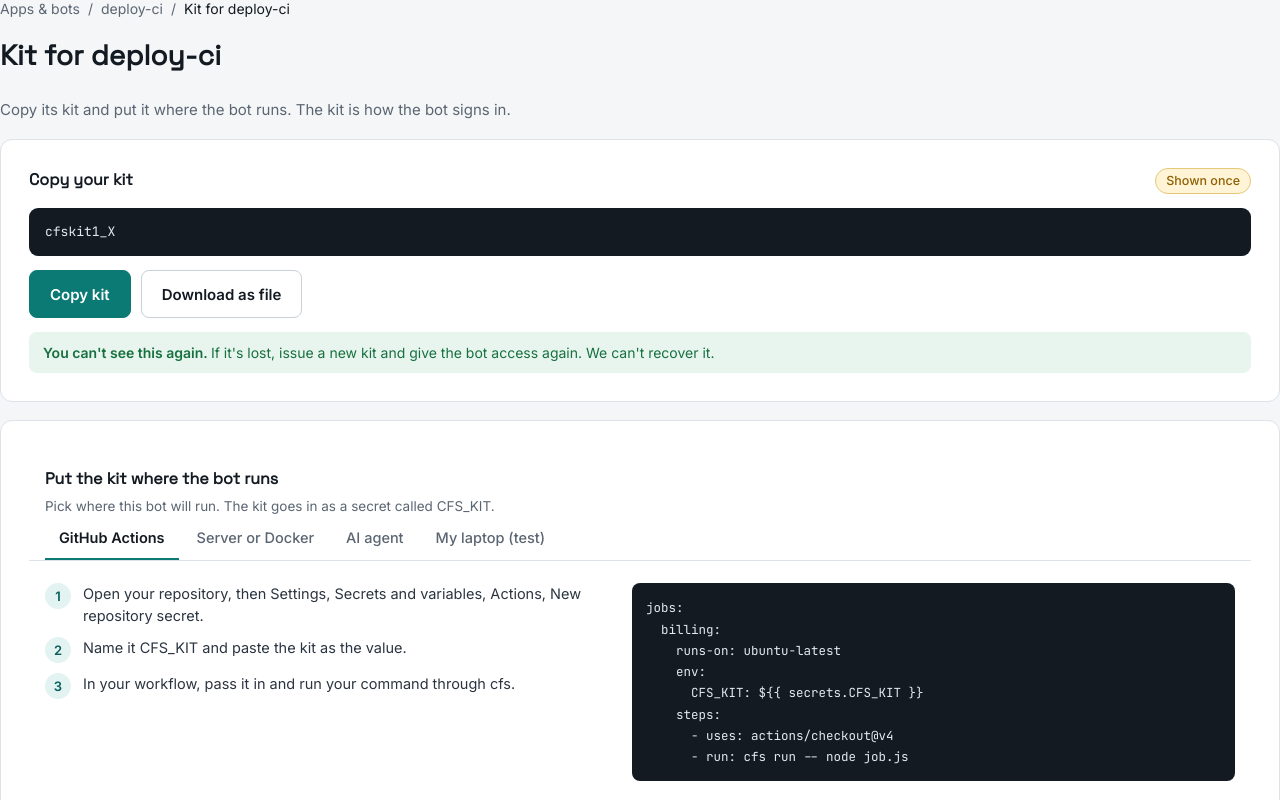
Test case: Apps and bots › switches the destination tab and shows that tab's steps
The image size is (1280, 800).
Click the tab "AI agent": (375, 538) [332, 516, 418, 560]
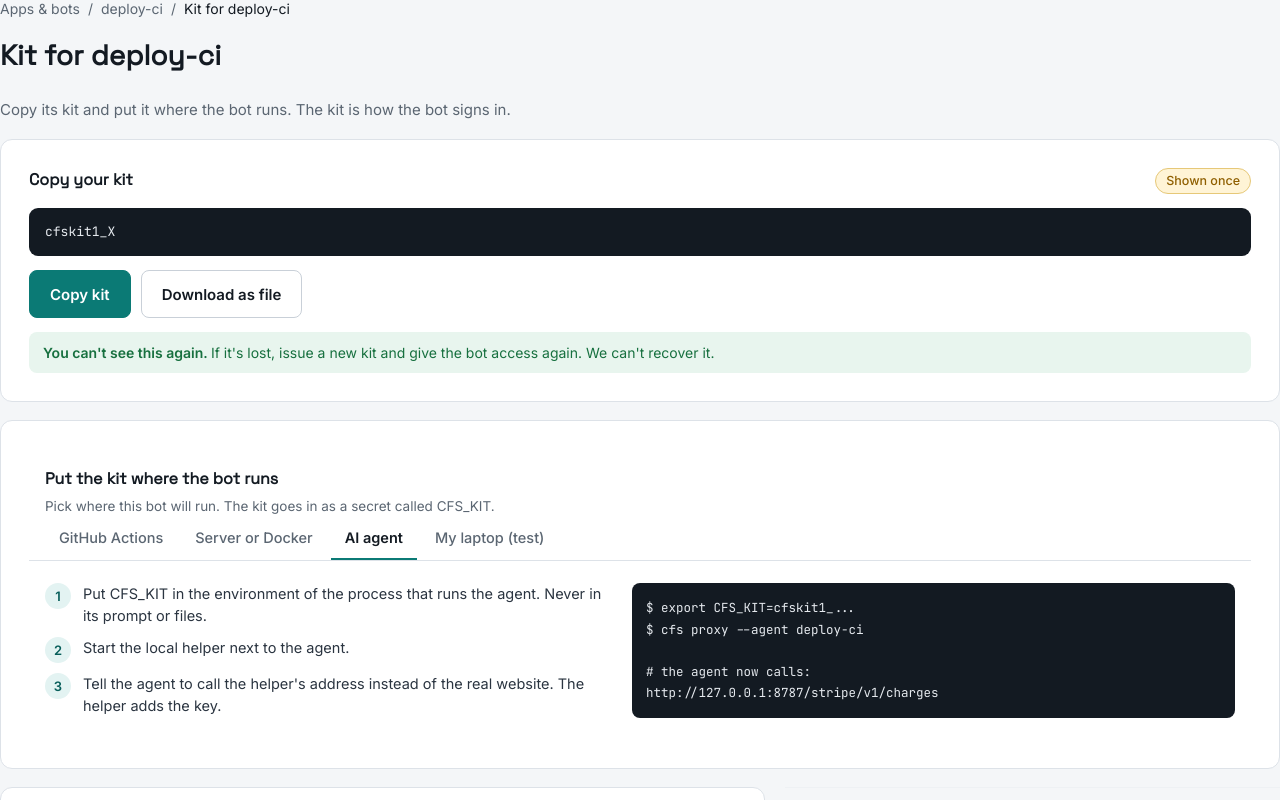
Now the text "cfs proxy --agent deploy-ci" is shown, box [646, 599, 938, 701]
Now the text "CFS_KIT: ${{ secrets.CFS_KIT }}" is gone
